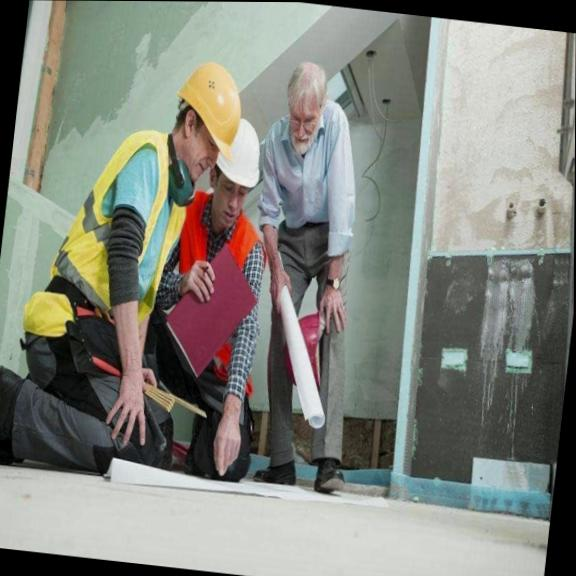safety_vest: (61, 112, 196, 356)
